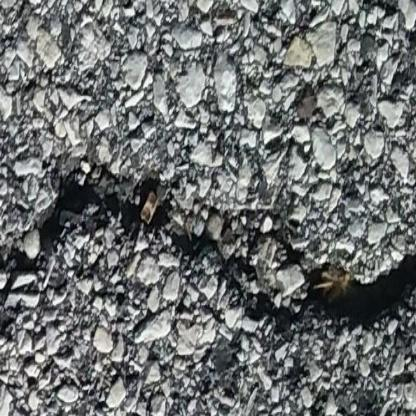Cracks: (0, 167, 416, 332)
